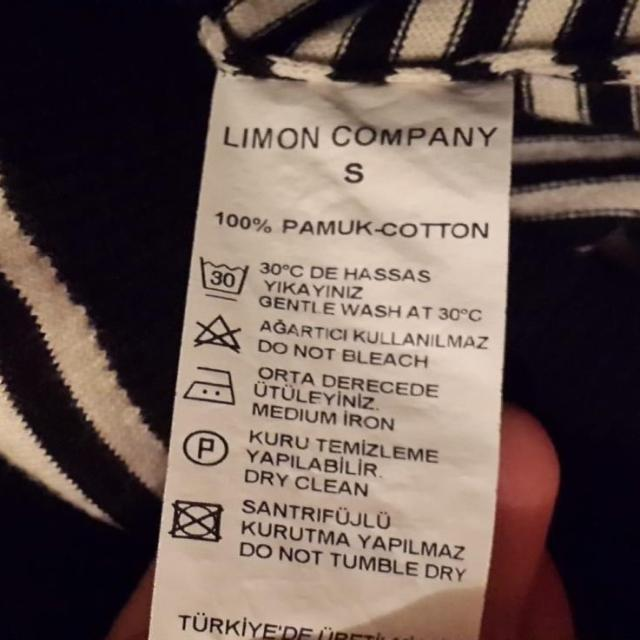30C: (198, 256, 250, 303)
DN_bleach: (192, 312, 242, 354)
DN_tumble_dry: (169, 496, 224, 544)
dry_clean_any_solvent_except_trichloroethylene: (179, 427, 231, 470)
iron_medium: (184, 365, 239, 408)
